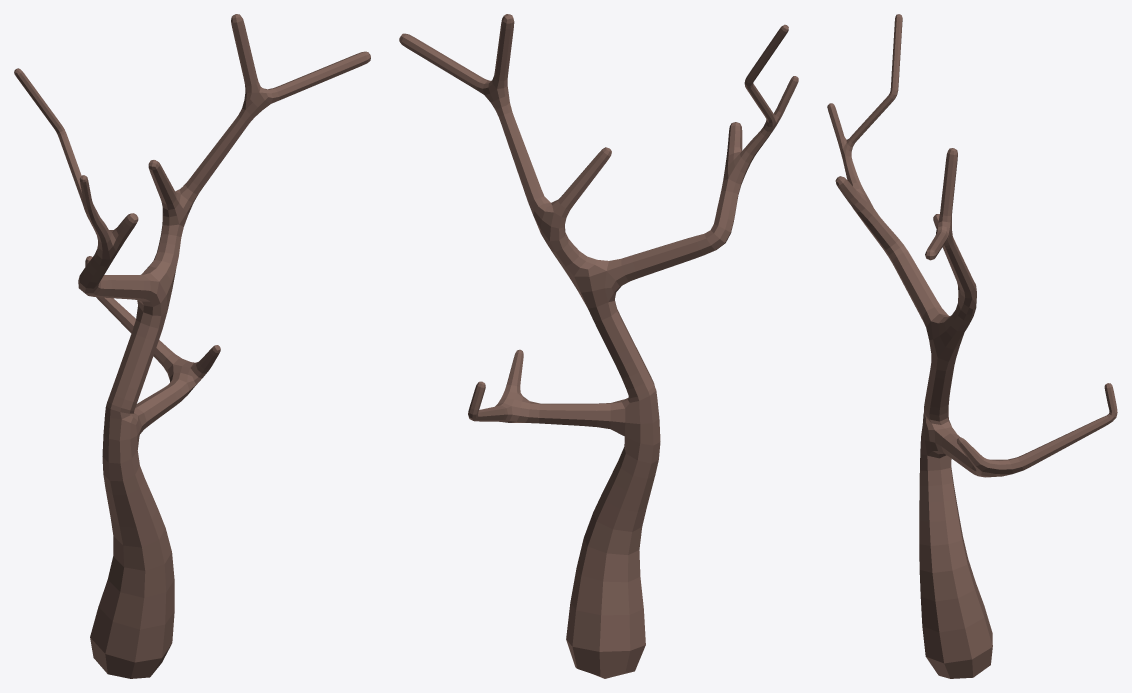
Rendered from SimpleTree2.fbx.
3 views of the same model, side by side, from view 1: azimuth 30°, elevation 25°; view 2: azimuth 150°, elevation 25°; view 3: azimuth 270°, elevation 25° (orthographic). The views are drawn at different scales.
Visible parts, largest first — view 1: Vert.001; view 2: Vert.001; view 3: Vert.001.
Boxes of the visible parts, bbox=[...] form: Vert.001: bbox=[14, 14, 370, 678]; Vert.001: bbox=[399, 14, 798, 678]; Vert.001: bbox=[827, 14, 1117, 678].
Size of the model in its own units: 396 by 675 by 297.
